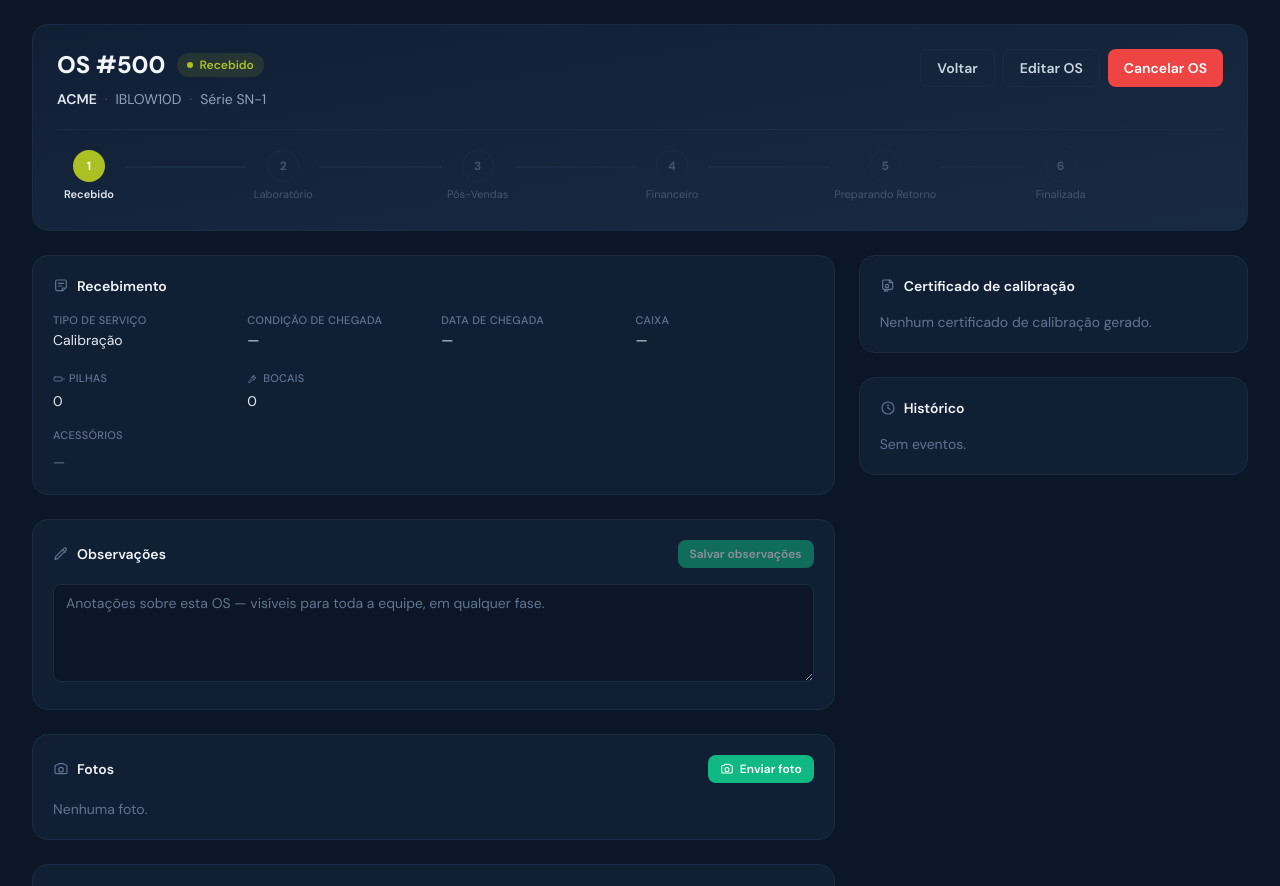
OrdemDetailPage — Observações › o botao Salvar nasce desabilitado e habilita quando o texto muda
Expected: the button "Salvar observações" is disabled, [678,540,814,568]
Type "veio sem tampa" into the text box named "Observações" at (433, 632), box [53,584,814,682]
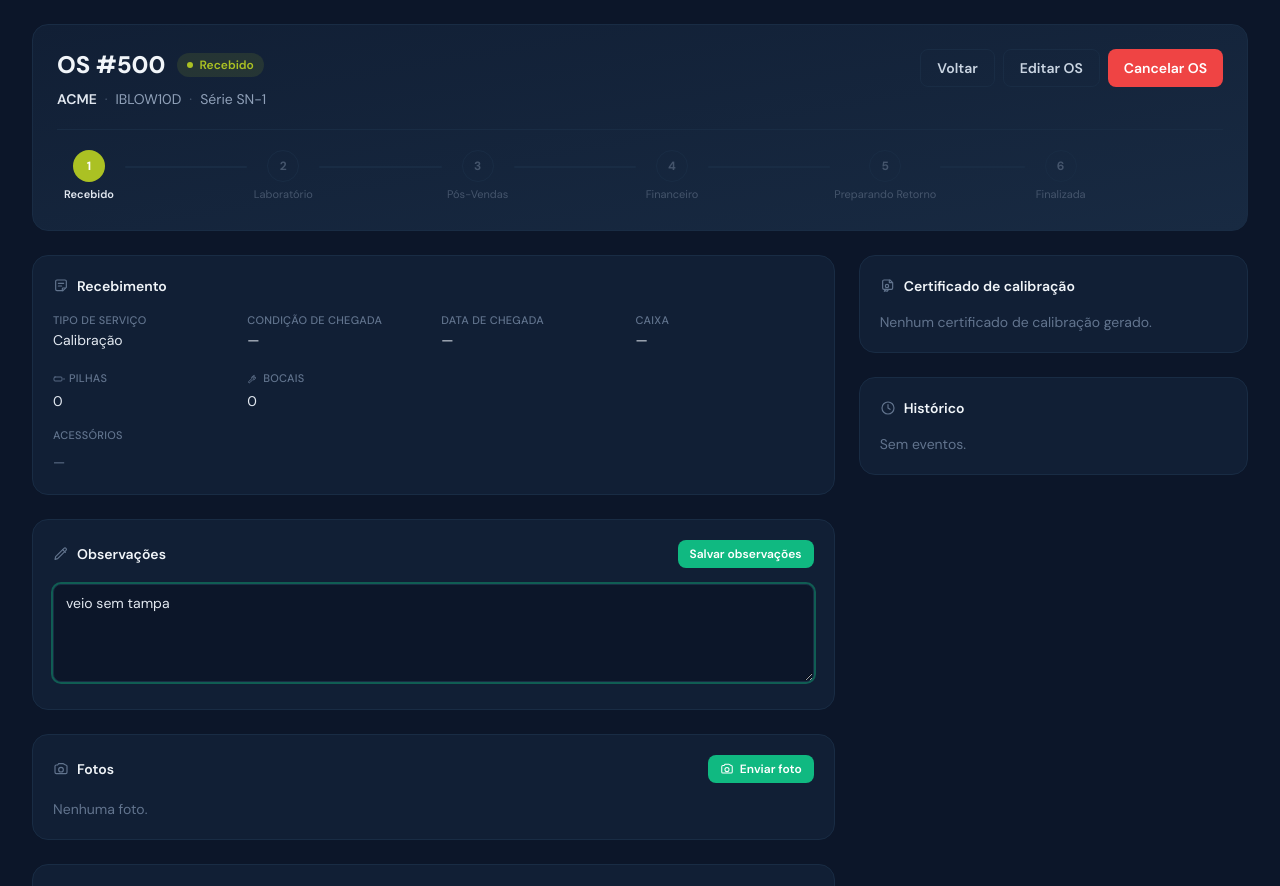
Result: the button "Salvar observações" is enabled at [678,540,814,568]
